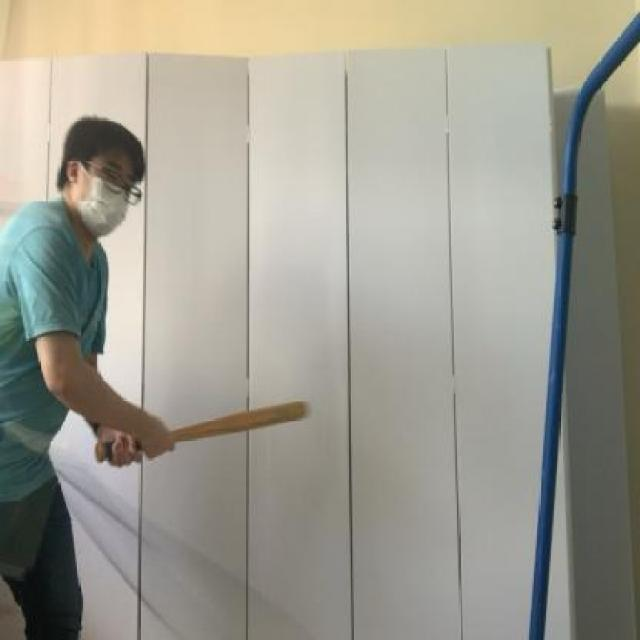baseball: (0, 286, 37, 376)
